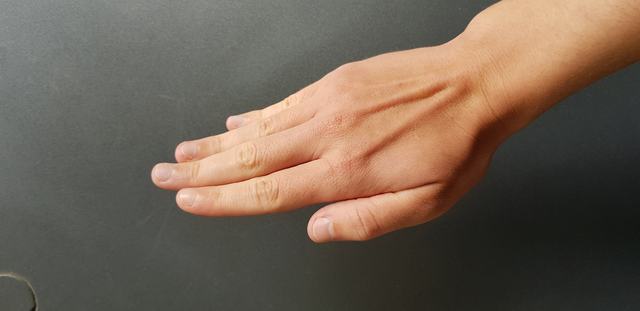Paper: (134, 45, 521, 255)
